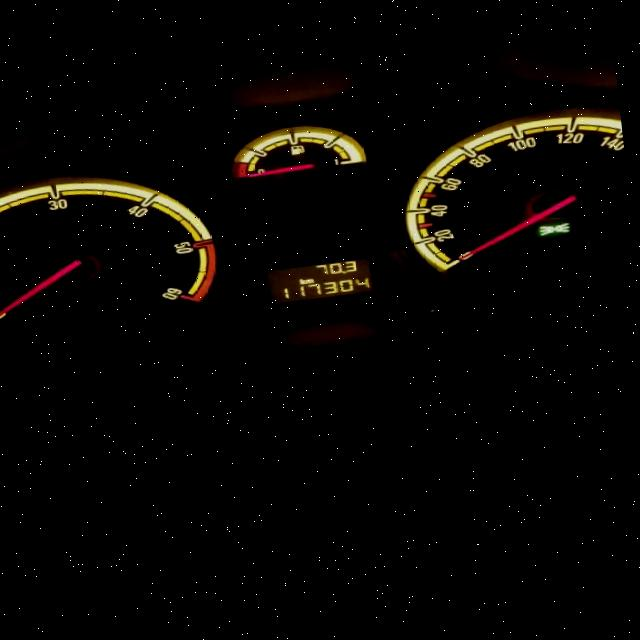odometer: (262, 256, 376, 305)
